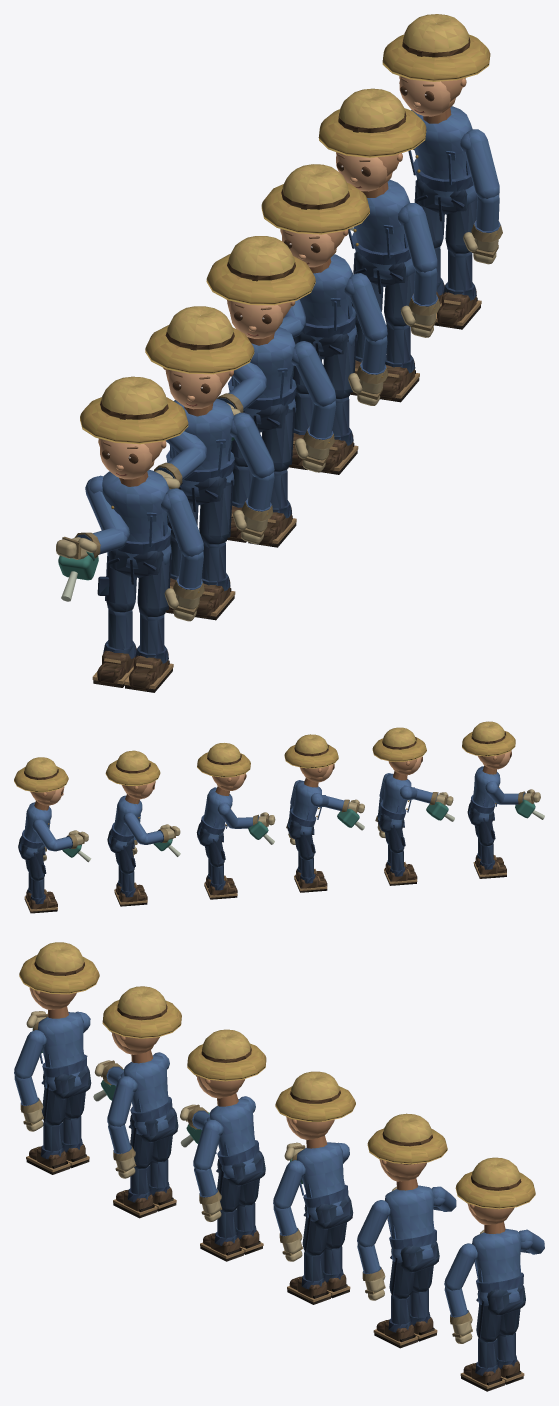
The model's file is audit-hf-player-farmhand-water-side.glb.
The picture shows the model from 3 angles, top to bottom: view 1: azimuth 30°, elevation 25°; view 2: azimuth 150°, elevation 25°; view 3: azimuth 270°, elevation 25°; orthographic projection. The views are drawn at different scales.
Visible parts, largest first — view 1: strawHat (×6), denimJacketTorso (×6), leftShin (×6), head (×6), leftUpperArm (×6), leftThigh (×6), leftHandMesh (×6), leftLowerArm (×6), rightShin (×3), trouserHips (×4), rightThigh, rightUpperArm (+1 smaller); view 2: strawHat (×6), denimJacketTorso (×6), rightShin (×6), rightThigh (×6), head (×6), rightUpperArm (×4), rightHandMesh (×5), trouserHips (×4), wateringCanBody (×3); view 3: strawHat (×6), denimJacketTorso (×6), leftShin (×6), rightShin (×6), leftUpperArm (×6), trouserHips (×6), leftThigh (×6), head (×6), leftHandMesh (×3).
Boxes of the visible parts, box(x1,y1,x2,y2) form: strawHat (×6): box(80, 14, 490, 444); denimJacketTorso (×6): box(102, 106, 477, 568); leftShin (×6): box(124, 250, 481, 692); head (×6): box(98, 76, 466, 479); leftUpperArm (×6): box(161, 129, 499, 556); leftThigh (×6): box(137, 198, 477, 616); leftHandMesh (×6): box(164, 221, 502, 621); leftLowerArm (×6): box(176, 194, 500, 592); rightShin (×3): box(92, 392, 313, 687); trouserHips (×4): box(107, 178, 467, 584); rightThigh: box(97, 552, 136, 612); rightUpperArm: box(85, 475, 129, 540); strawHat (×6): box(14, 721, 515, 792); denimJacketTorso (×6): box(19, 765, 500, 856); rightShin (×6): box(27, 843, 506, 913); rightThigh (×6): box(27, 818, 495, 880); head (×6): box(30, 750, 511, 805); rightUpperArm (×4): box(32, 781, 504, 850); rightHandMesh (×5): box(67, 789, 540, 848); trouserHips (×4): box(196, 802, 494, 846); wateringCanBody (×3): box(337, 799, 535, 827); strawHat (×6): box(19, 942, 535, 1209); denimJacketTorso (×6): box(37, 1006, 523, 1305); leftShin (×6): box(26, 1121, 505, 1391); rightShin (×6): box(62, 1116, 524, 1384); leftUpperArm (×6): box(14, 1030, 477, 1290); trouserHips (×6): box(41, 1065, 525, 1315); leftThigh (×6): box(42, 1083, 501, 1342); head (×6): box(29, 987, 514, 1224); leftHandMesh (×3): box(20, 1098, 472, 1343).
Size of what is drawn, in the model's own units: 6.3 by 2.4 by 5.33.
